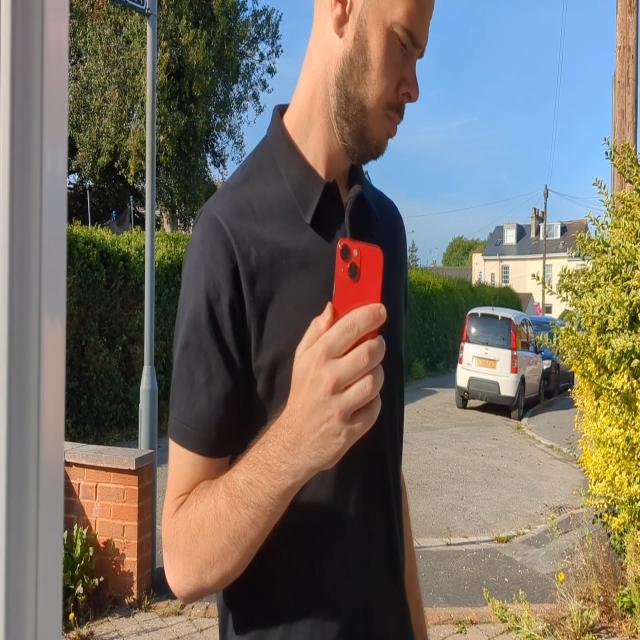lens: (336, 240, 362, 288)
phone: (329, 234, 386, 366)
